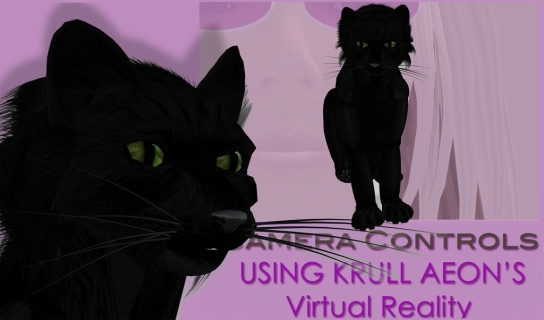Cat: (0, 11, 445, 319), (314, 0, 432, 236)
